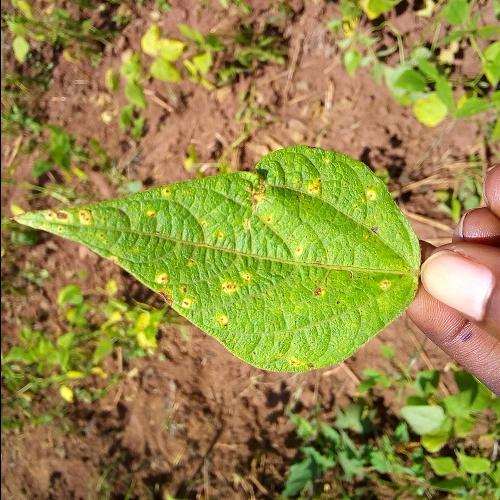hawar: (75, 156, 436, 368)
